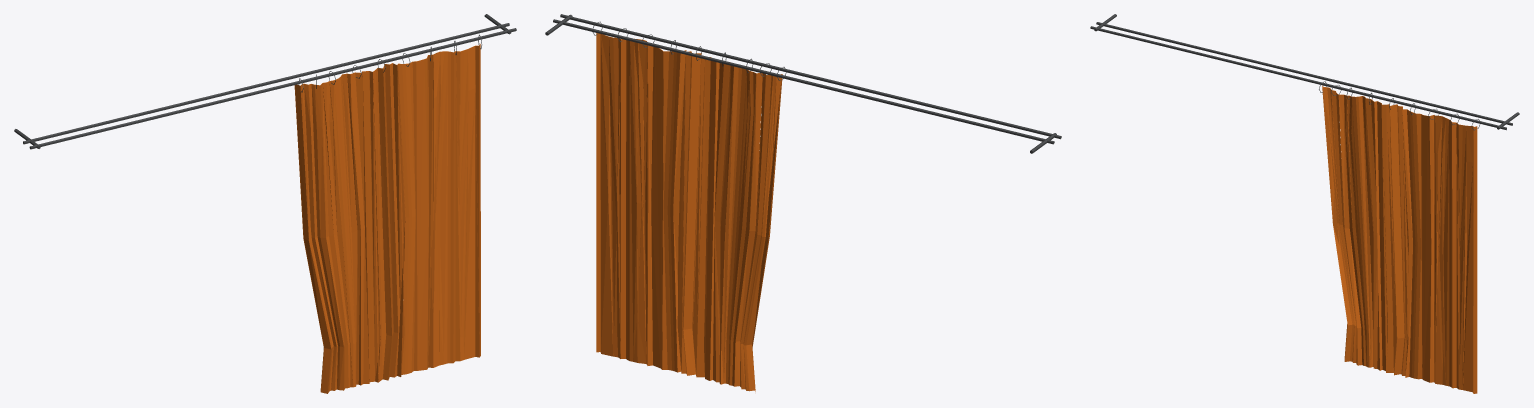
Rendered from curtain.glb.
The picture shows the model from 3 angles, left to right: view 1: azimuth 30°, elevation 25°; view 2: azimuth 150°, elevation 25°; view 3: azimuth 330°, elevation 25°; orthographic projection. The views are drawn at different scales.
Visible parts, largest first — view 1: polySurface1073_curtains_0, pCylinder70_metal_0; view 2: polySurface1073_curtains_0, pCylinder70_metal_0; view 3: polySurface1073_curtains_0, pCylinder70_metal_0.
Part boxes in pixels (x1,y1,x2,y2): polySurface1073_curtains_0: (294, 44, 480, 393); pCylinder70_metal_0: (14, 14, 516, 149); polySurface1073_curtains_0: (596, 33, 782, 391); pCylinder70_metal_0: (545, 14, 1061, 153); polySurface1073_curtains_0: (1322, 85, 1477, 393); pCylinder70_metal_0: (1090, 14, 1519, 130).
Size of the model in its own units: 7.75 by 4.88 by 0.6938.
